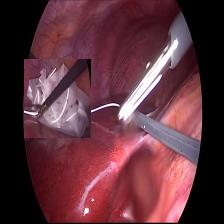Grasper: (113, 36, 175, 130), (69, 98, 89, 125)
Specimen Bag: (24, 59, 91, 138)
